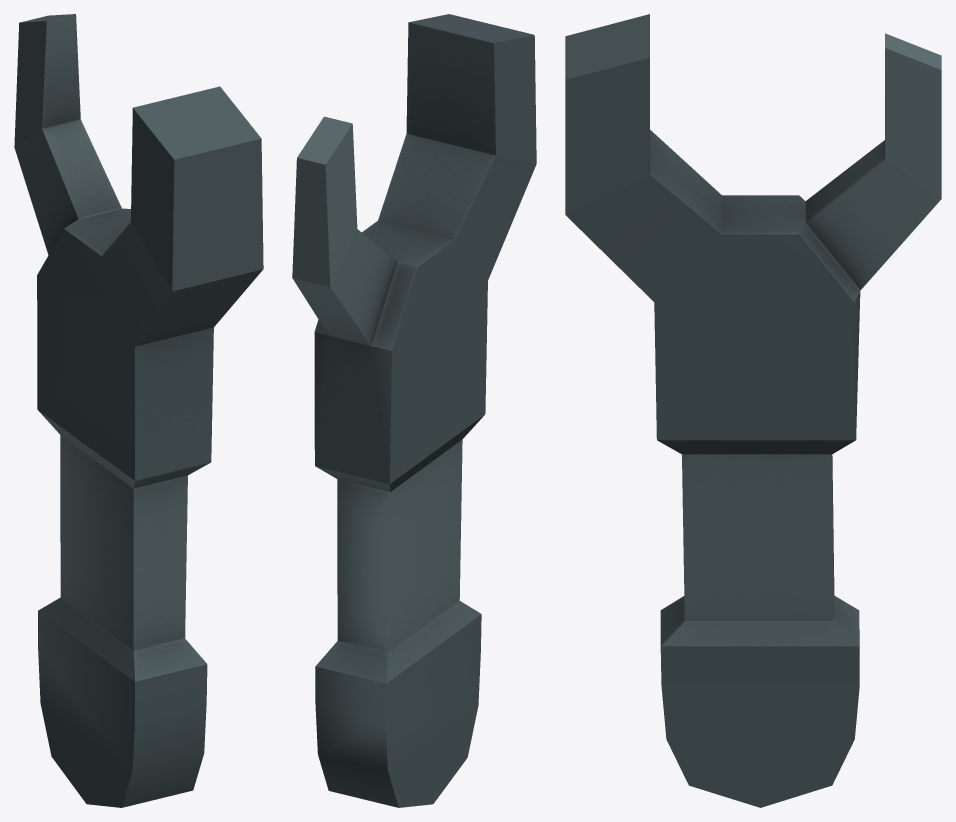
The model's file is decoClaw.fbx.
3 views of the same model, side by side, from view 1: azimuth 30°, elevation 25°; view 2: azimuth 150°, elevation 25°; view 3: azimuth 270°, elevation 25° (orthographic). The views are drawn at different scales.
Visible parts, largest first — view 1: decoClaw; view 2: decoClaw; view 3: decoClaw.
Boxes of the visible parts, x1,y1,x2,y2 form: decoClaw: [14, 14, 263, 807]; decoClaw: [292, 14, 536, 807]; decoClaw: [565, 14, 941, 807].
Size of the model in its own units: 0.4775 by 3.69 by 1.67.
